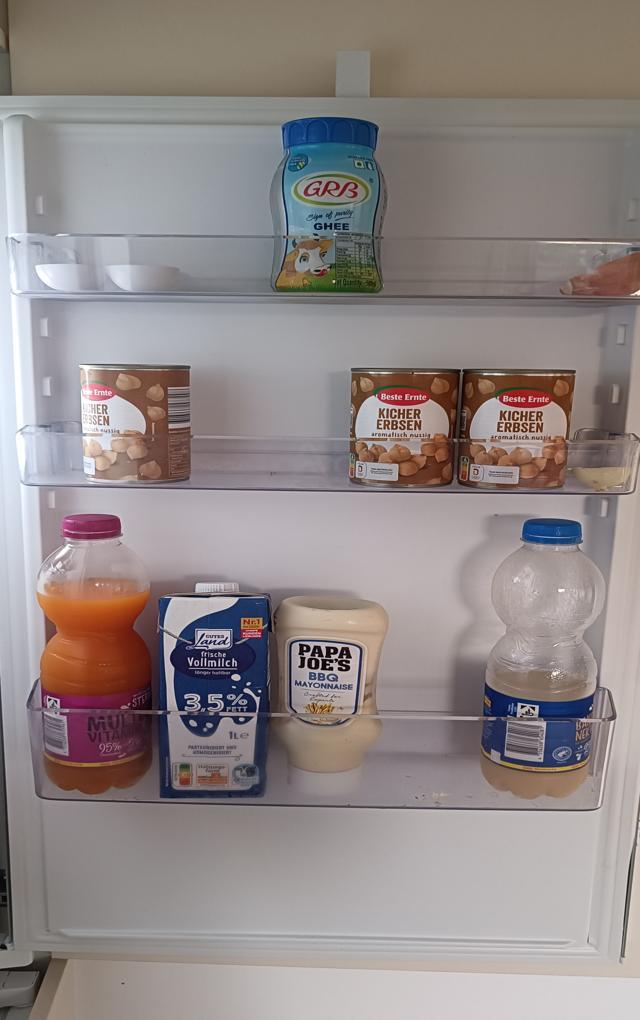bananajuice: (485, 517, 604, 803)
chickpeas: (79, 363, 192, 484), (461, 368, 572, 490), (350, 366, 458, 487)
ghee: (265, 118, 390, 297)
mayoniasie: (277, 597, 391, 796)
milk: (159, 580, 275, 800)
orangejuice: (34, 509, 160, 796)
